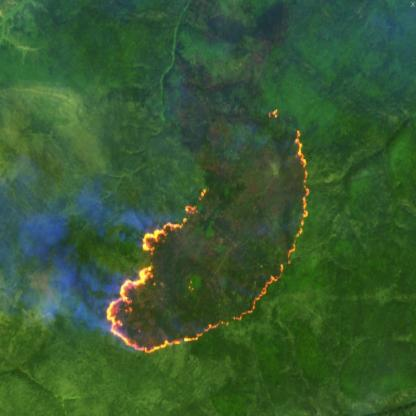fire: (102, 101, 312, 356)
